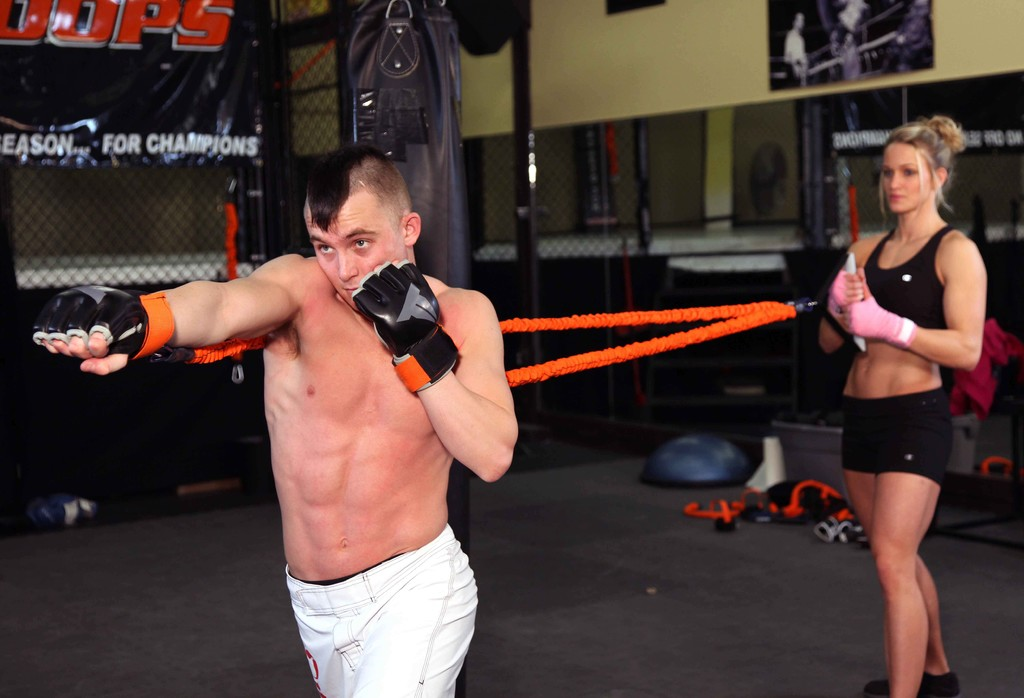Human_hand: (32, 284, 148, 377), (351, 258, 439, 355), (842, 282, 881, 338), (830, 269, 864, 308)
